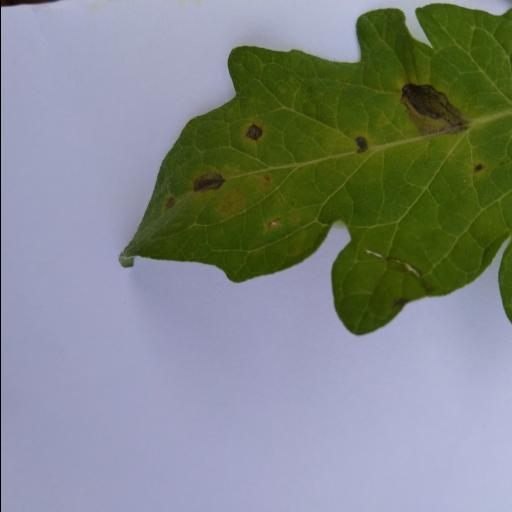Early Blight: (118, 2, 512, 336)
